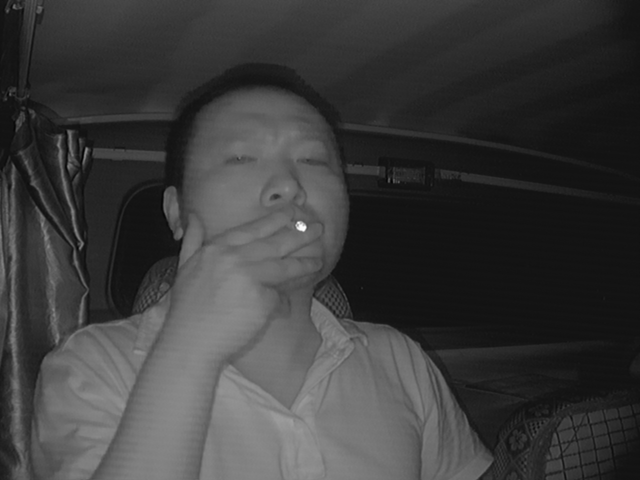hand: (222, 211, 317, 317)
